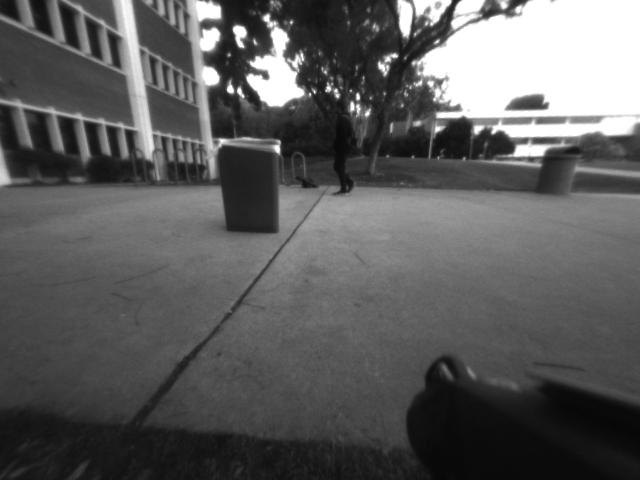trashcan_open: (210, 132, 290, 239)
